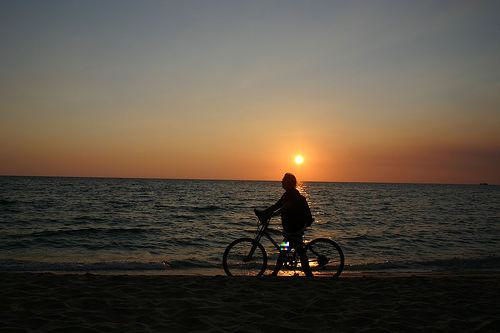car: (222, 208, 348, 285)
person: (262, 173, 318, 284)
